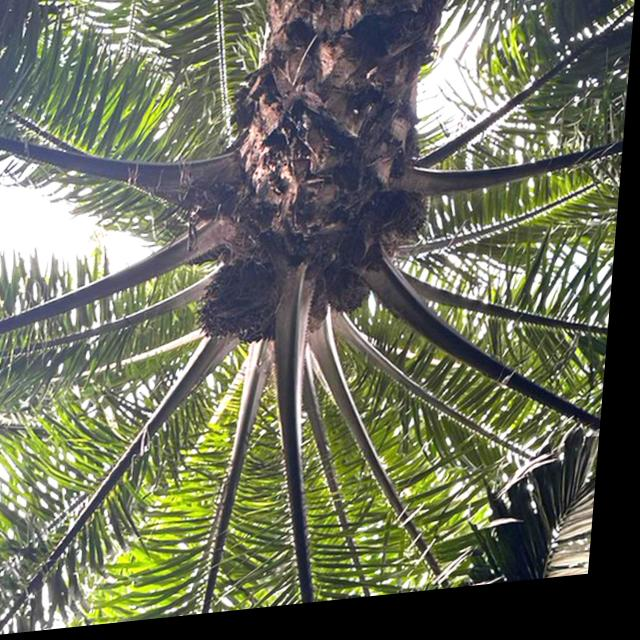almost: (200, 266, 281, 350), (386, 203, 439, 257), (328, 277, 378, 333)
